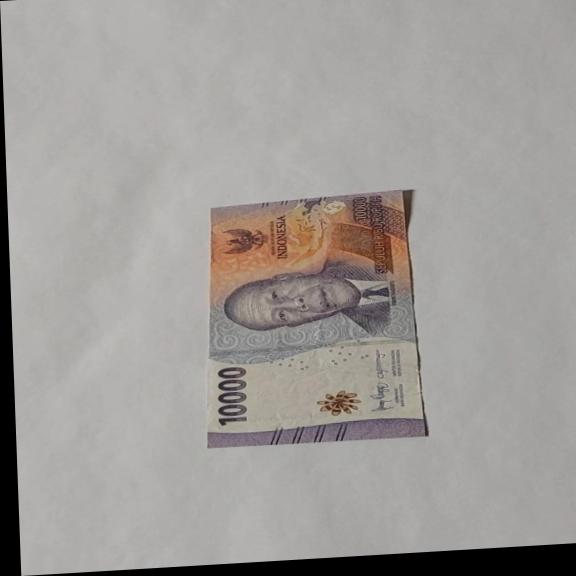Kertas: (196, 187, 428, 449), (213, 365, 251, 427)
